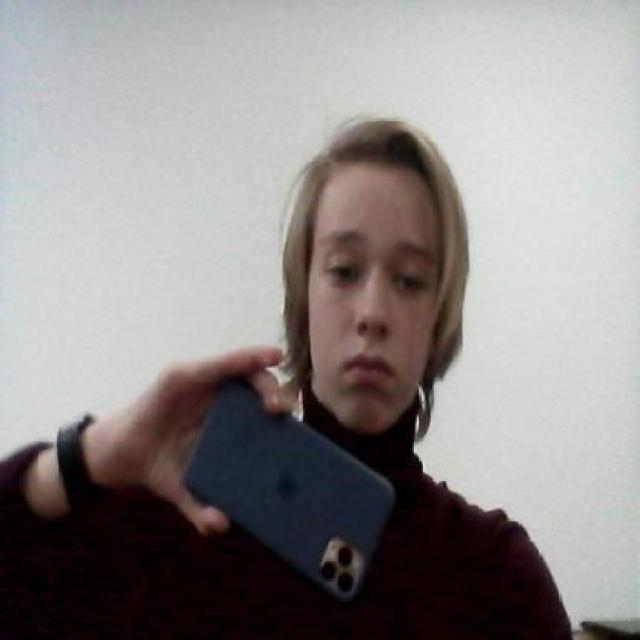mobile: (175, 358, 400, 600)
